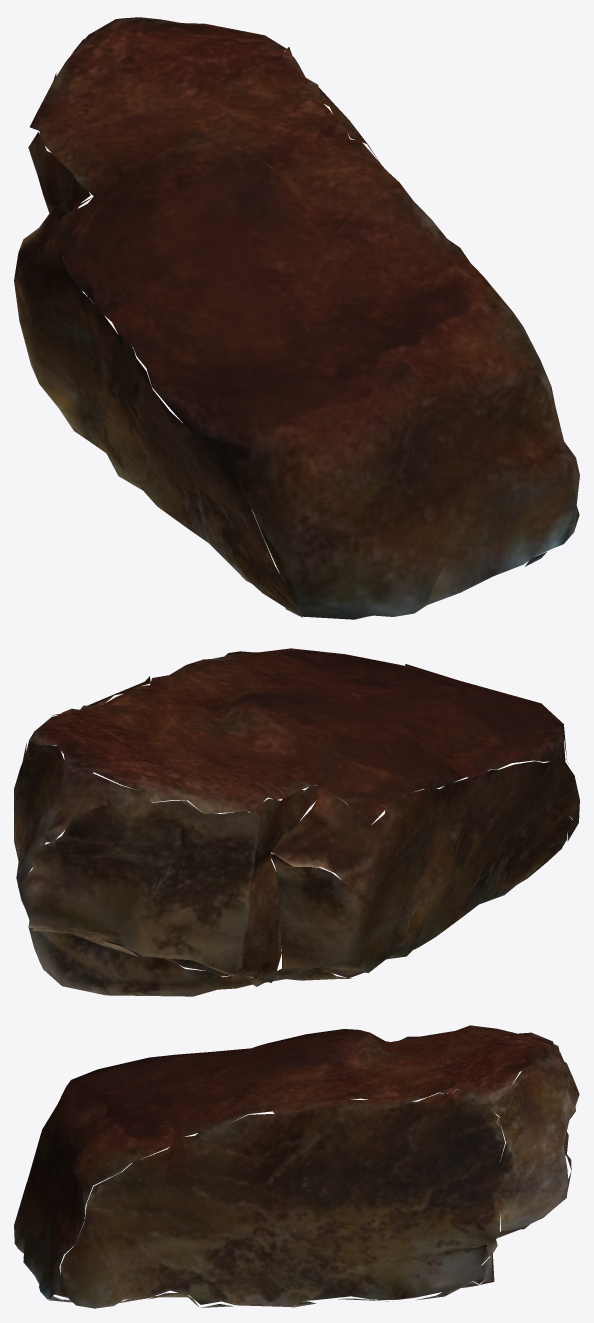
Rendered from rock_boulder.glb.
3 renders of one model, top to bottom at view 1: azimuth 30°, elevation 25°; view 2: azimuth 150°, elevation 25°; view 3: azimuth 270°, elevation 25°, orthographic. The views are drawn at different scales.
Parts seen in each view (by area): view 1: rock_boulder; view 2: rock_boulder; view 3: rock_boulder.
Boxes of the visible parts, left/top/right/bottom form: rock_boulder: left=14, top=17, right=579, bottom=619; rock_boulder: left=14, top=648, right=579, bottom=996; rock_boulder: left=14, top=1025, right=579, bottom=1308.
Bounding box in the file's own units: 0.0356 × 0.03 × 0.0674.
1 material, 1 textured.
